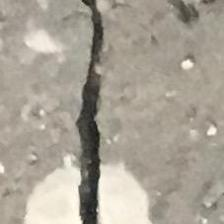Crack: (68, 7, 156, 224)
